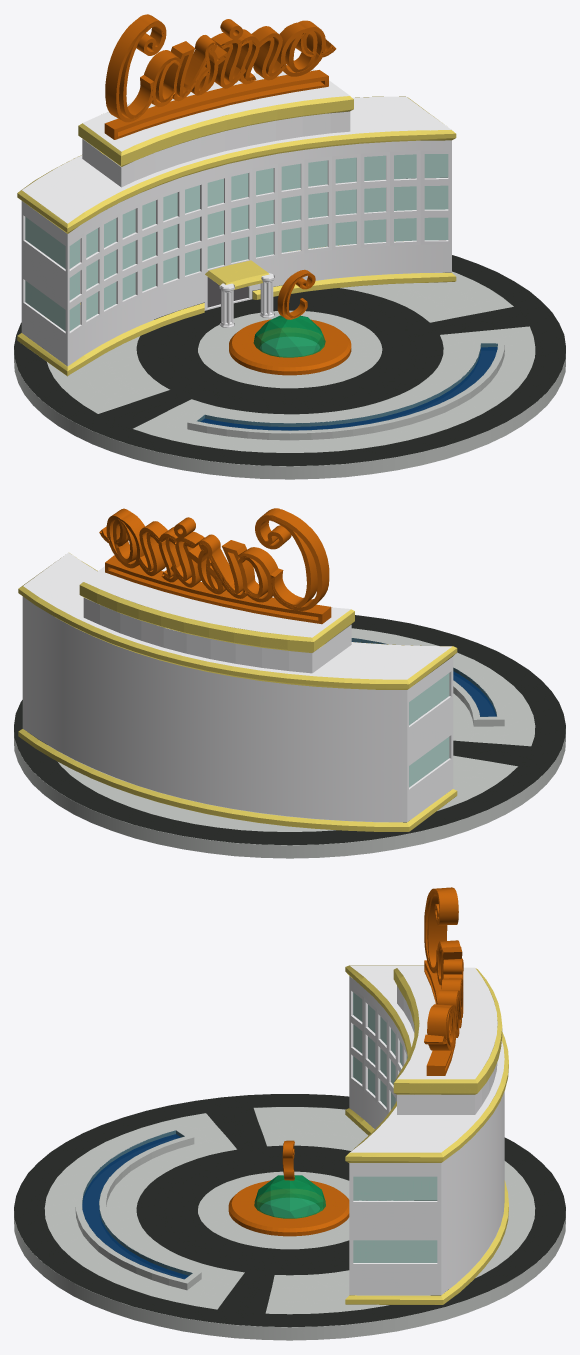
The model's file is casino_from_poly_by_google-transformed.glb.
The picture shows the model from 3 angles, top to bottom: view 1: azimuth 30°, elevation 25°; view 2: azimuth 150°, elevation 25°; view 3: azimuth 270°, elevation 25°; orthographic projection.
Parts seen in each view (by area): view 1: Object_4, Object_8, Object_9, Object_11, Object_5, Object_7, Object_13, Object_10, Object_12; view 2: Object_4, Object_8, Object_9, Object_11, Object_7, Object_5, Object_10; view 3: Object_8, Object_9, Object_4, Object_11, Object_7, Object_5, Object_13, Object_10, Object_12.
Part boxes in pixels (box(x1,y1,x2,y2)): Object_4: box(21, 69, 451, 366); Object_8: box(14, 254, 565, 479); Object_9: box(14, 255, 565, 466); Object_11: box(104, 14, 351, 375); Object_5: box(25, 154, 448, 331); Object_7: box(17, 73, 456, 376); Object_13: box(253, 314, 325, 357); Object_10: box(201, 347, 497, 430); Object_12: box(197, 343, 497, 430); Object_4: box(22, 552, 453, 822); Object_8: box(14, 628, 565, 858); Object_9: box(14, 615, 565, 845); Object_11: box(99, 508, 331, 624); Object_7: box(18, 553, 457, 831); Object_5: box(153, 624, 449, 787); Object_10: box(352, 641, 496, 716); Object_8: box(14, 1107, 565, 1340); Object_9: box(14, 1094, 565, 1327); Object_4: box(349, 965, 504, 1295); Object_11: box(228, 887, 463, 1236); Object_7: box(345, 965, 508, 1304); Object_5: box(353, 992, 437, 1262); Object_13: box(254, 1175, 325, 1218); Object_10: box(82, 1134, 188, 1279); Object_12: box(82, 1130, 192, 1279).
Bounding box in the file's own units: 177 × 107 × 177.
2 materials, 2 textured.
